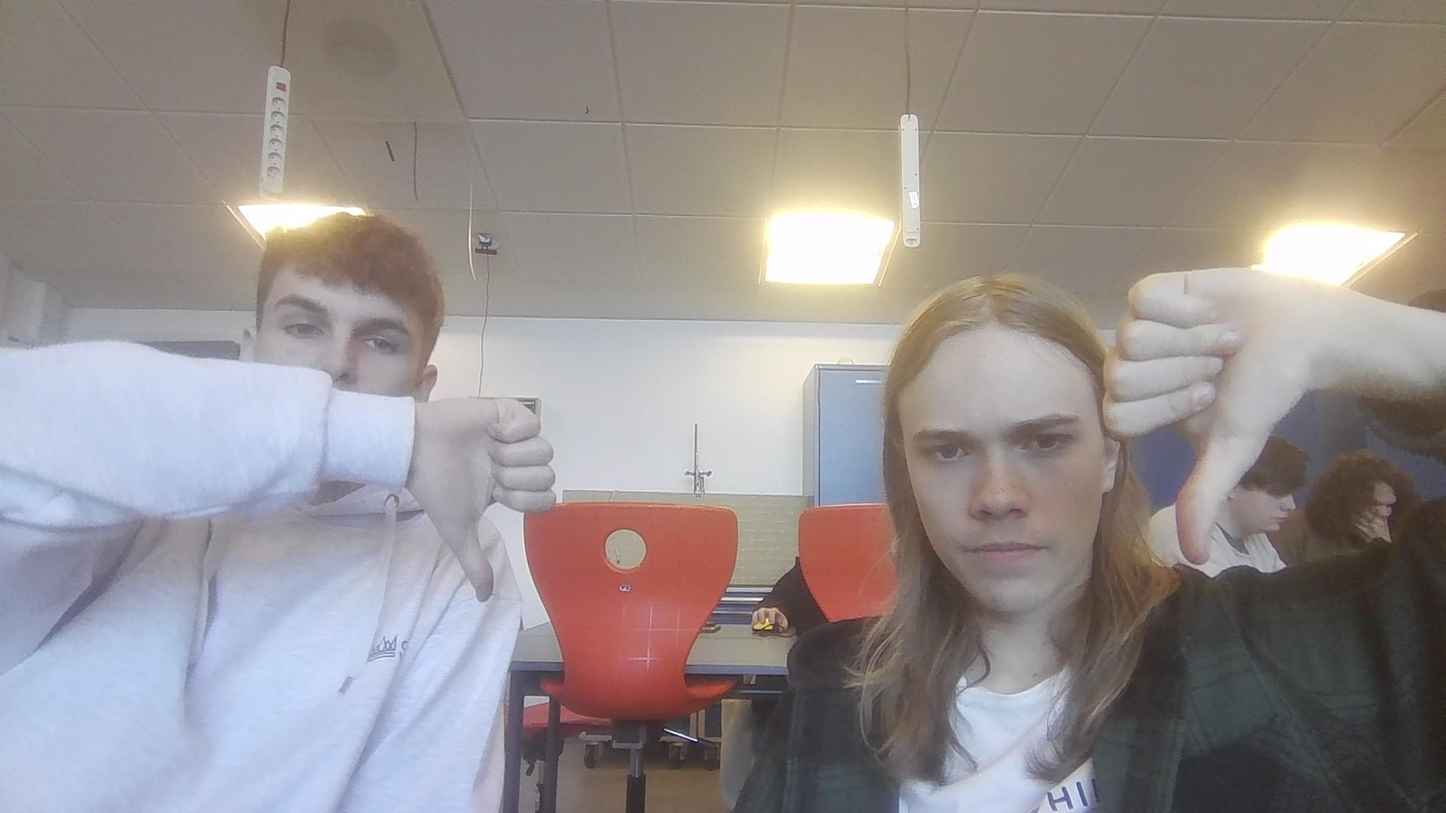thumbs down: (1103, 260, 1342, 558), (401, 388, 569, 606)
